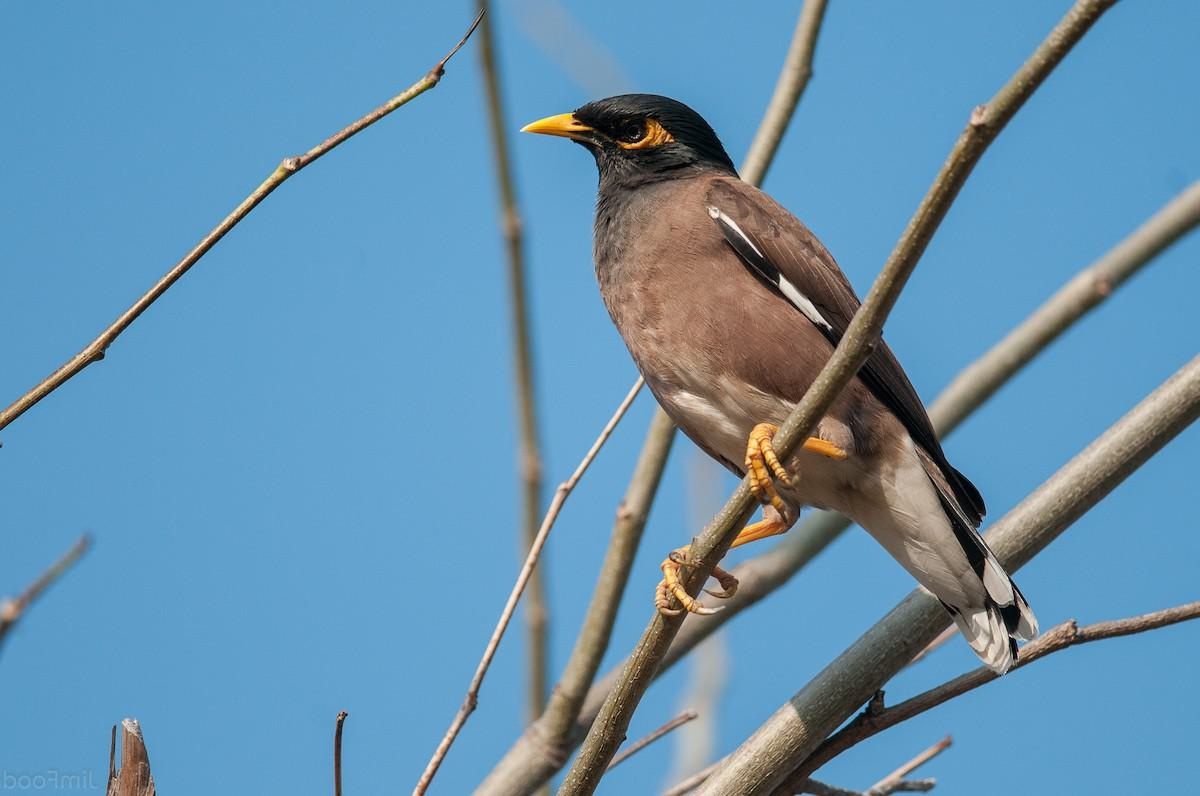myna: (511, 78, 1081, 641)
